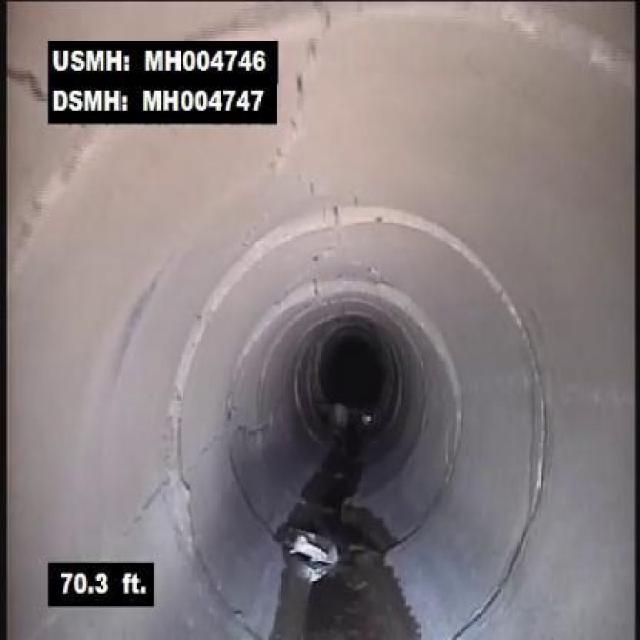Crack: (243, 128, 366, 203), (283, 20, 329, 131), (119, 477, 168, 548)
Joint offset: (245, 188, 452, 278)
